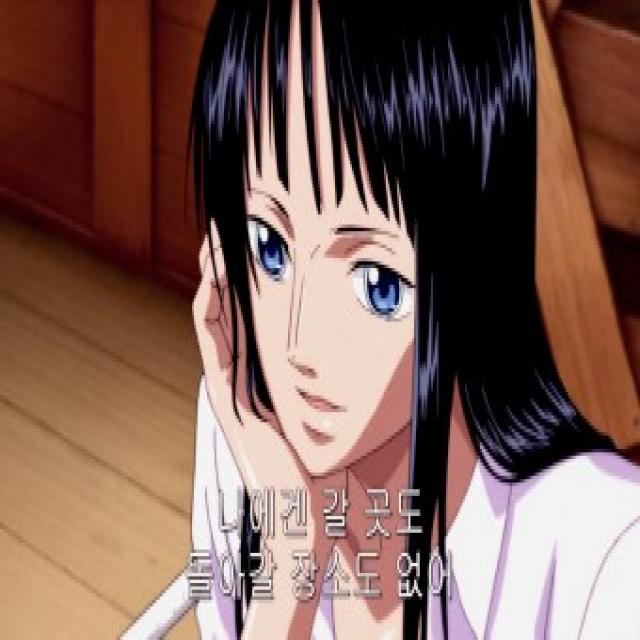NicoRobin: (192, 0, 569, 495)
